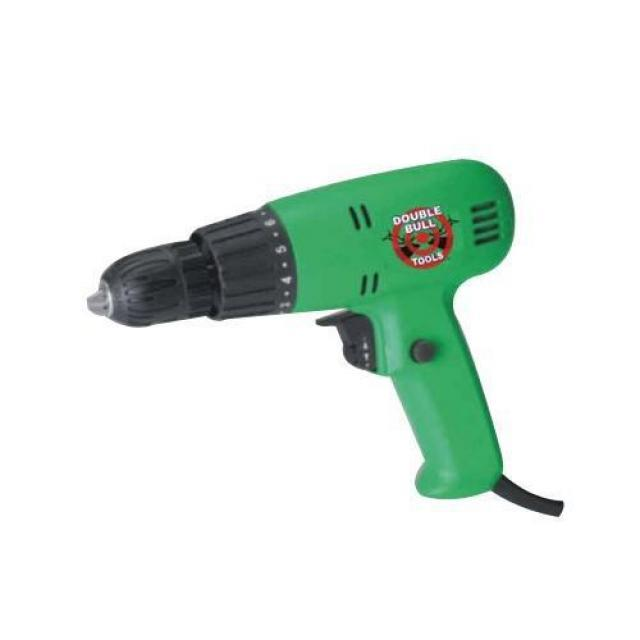drill: (87, 159, 566, 518)
